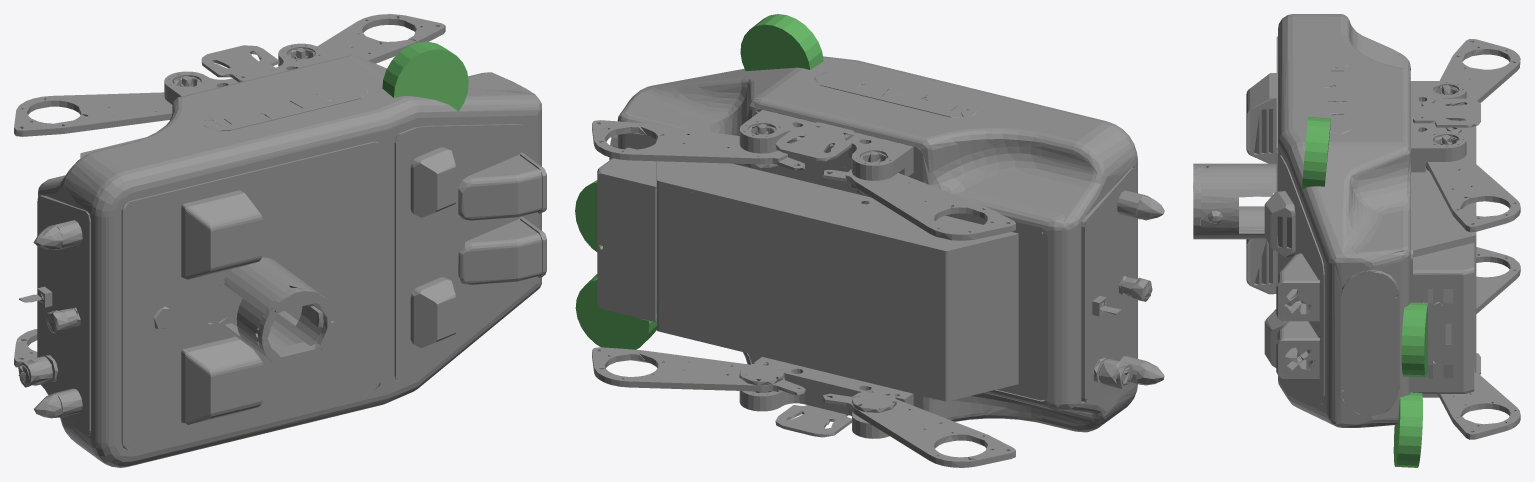
File: rbwatcher_policy_bo32.glb
The picture shows the model from 3 angles, left to right: view 1: azimuth 30°, elevation 25°; view 2: azimuth 150°, elevation 25°; view 3: azimuth 270°, elevation 25°; orthographic projection. The views are drawn at different scales.
Parts seen in each view (by area): view 1: rbwatcher_chassis.stl, world; view 2: rbwatcher_chassis.stl, world; view 3: rbwatcher_chassis.stl, world.
Part boxes in pixels (left/top/right/bottom): rbwatcher_chassis.stl: left=14, top=14, right=546, bottom=467; world: left=382, top=41, right=468, bottom=111; rbwatcher_chassis.stl: left=592, top=56, right=1164, bottom=467; world: left=575, top=14, right=823, bottom=349; rbwatcher_chassis.stl: left=1193, top=14, right=1520, bottom=439; world: left=1302, top=116, right=1428, bottom=467.
Bounding box in the file's own units: 0.7416 × 0.4362 × 0.4315.
